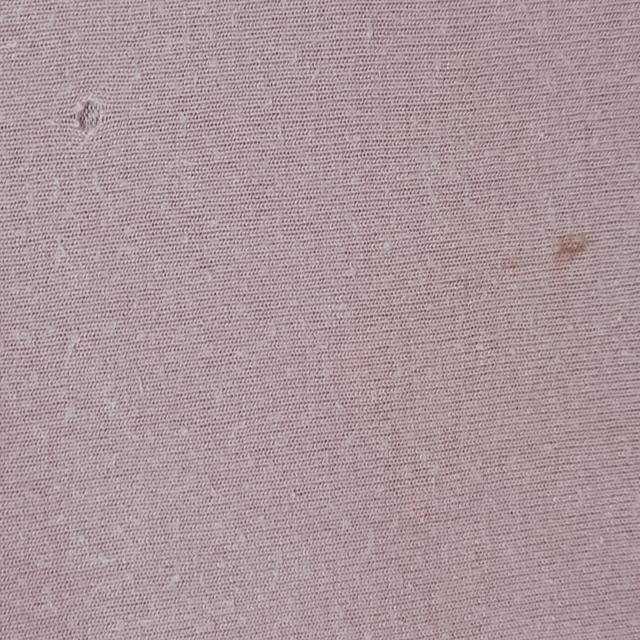stain: (539, 233, 593, 271), (500, 257, 535, 273)
